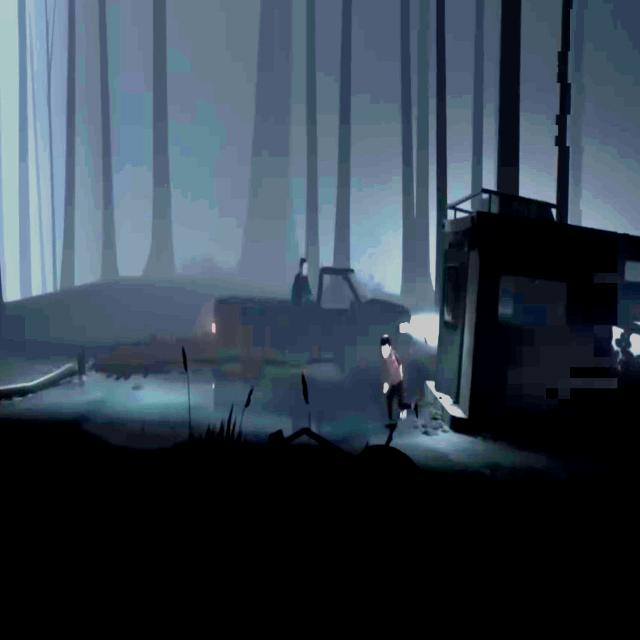boy: (380, 333, 411, 429)
human: (292, 258, 312, 302)
